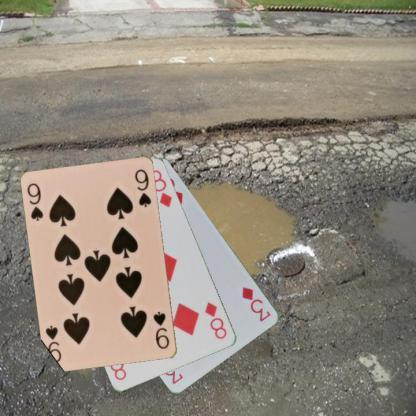3d: (239, 284, 272, 324)
8d: (202, 299, 229, 341)
9s: (25, 180, 45, 223), (151, 309, 171, 350)
